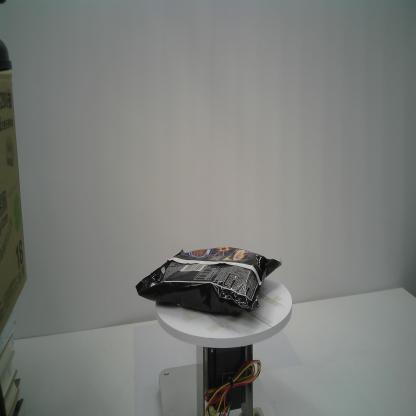Instant Noodles: (136, 244, 284, 319)
